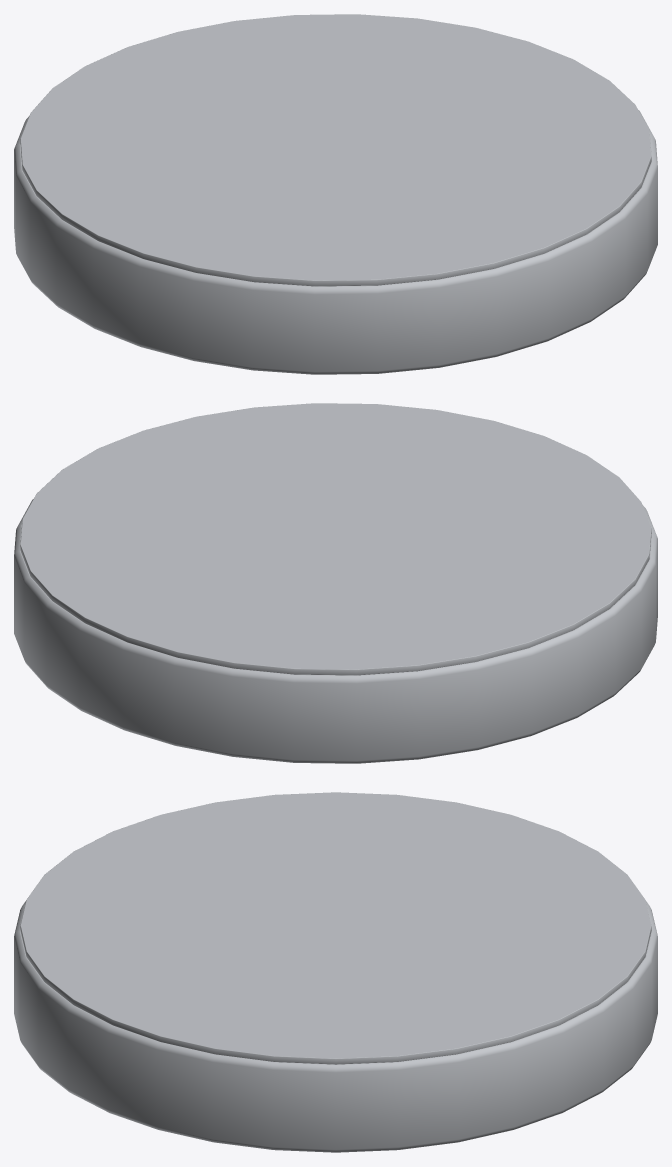
File: BatteryCoin-v1.fbx
3 renders of one model, top to bottom at view 1: azimuth 30°, elevation 25°; view 2: azimuth 150°, elevation 25°; view 3: azimuth 270°, elevation 25°, orthographic.
Visible parts, largest first — view 1: PW_BatteryCoin; view 2: PW_BatteryCoin; view 3: PW_BatteryCoin.
Boxes of the visible parts, bbox=[...] form: PW_BatteryCoin: bbox=[14, 14, 657, 374]; PW_BatteryCoin: bbox=[14, 403, 657, 763]; PW_BatteryCoin: bbox=[14, 792, 657, 1152].
Size of the model in its own units: 2 by 0.32 by 2.
1 material, 1 textured.
